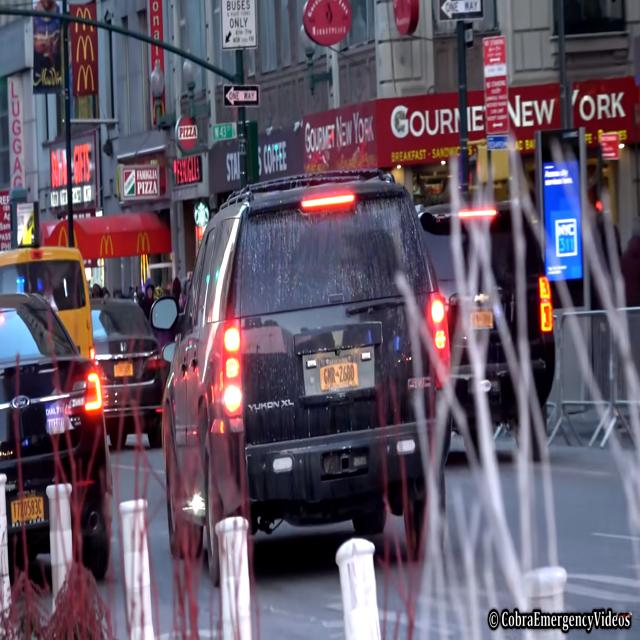emergency-vehicles: (148, 168, 475, 583)
